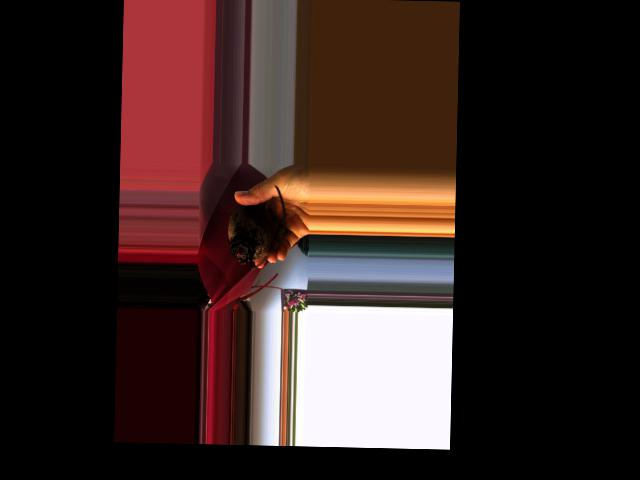beet: (227, 184, 286, 271)
